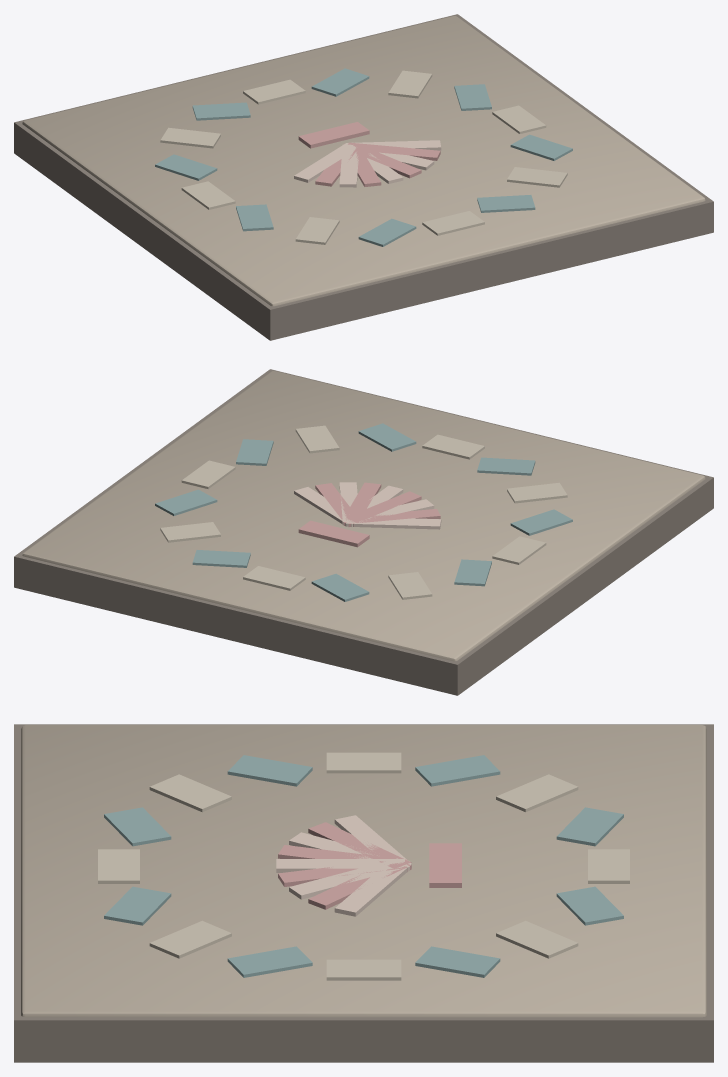
File: dk_floor_mosaic.gltf
The picture shows the model from 3 angles, top to bottom: view 1: azimuth 30°, elevation 25°; view 2: azimuth 150°, elevation 25°; view 3: azimuth 270°, elevation 25°; orthographic projection. The views are drawn at different scales.
Parts seen in each view (by area): view 1: Body; view 2: Body; view 3: Body.
Part boxes in pixels (x1,y1,x2,y2): Body: (14,14,713,340); Body: (14,369,713,695); Body: (14,724,713,1062).
Bounding box in the file's own units: 3 × 0.2435 × 3.
